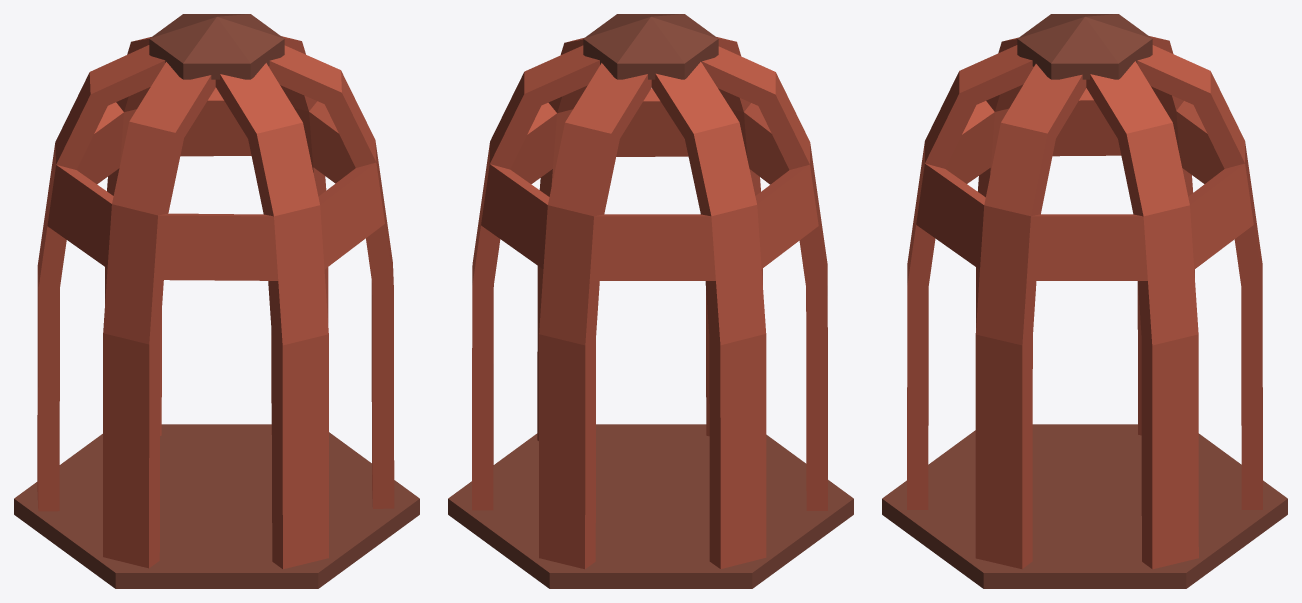
The model's file is Cage_2_Red.fbx.
3 views of the same model, side by side, from view 1: azimuth 30°, elevation 25°; view 2: azimuth 150°, elevation 25°; view 3: azimuth 270°, elevation 25° (orthographic).
Parts seen in each view (by area): view 1: Cage_2_Red_Part_2, Cage_2_Red_Part_1; view 2: Cage_2_Red_Part_2, Cage_2_Red_Part_1; view 3: Cage_2_Red_Part_2, Cage_2_Red_Part_1.
Part boxes in pixels (x1=…): Cage_2_Red_Part_2: x1=37, y1=36, x2=394, y2=569; Cage_2_Red_Part_1: x1=14, y1=14, x2=419, y2=588; Cage_2_Red_Part_2: x1=472, y1=37, x2=827, y2=569; Cage_2_Red_Part_1: x1=448, y1=14, x2=853, y2=588; Cage_2_Red_Part_2: x1=907, y1=36, x2=1262, y2=569; Cage_2_Red_Part_1: x1=882, y1=14, x2=1287, y2=588.
Size of the model in its own units: 98.73 by 154 by 114.
